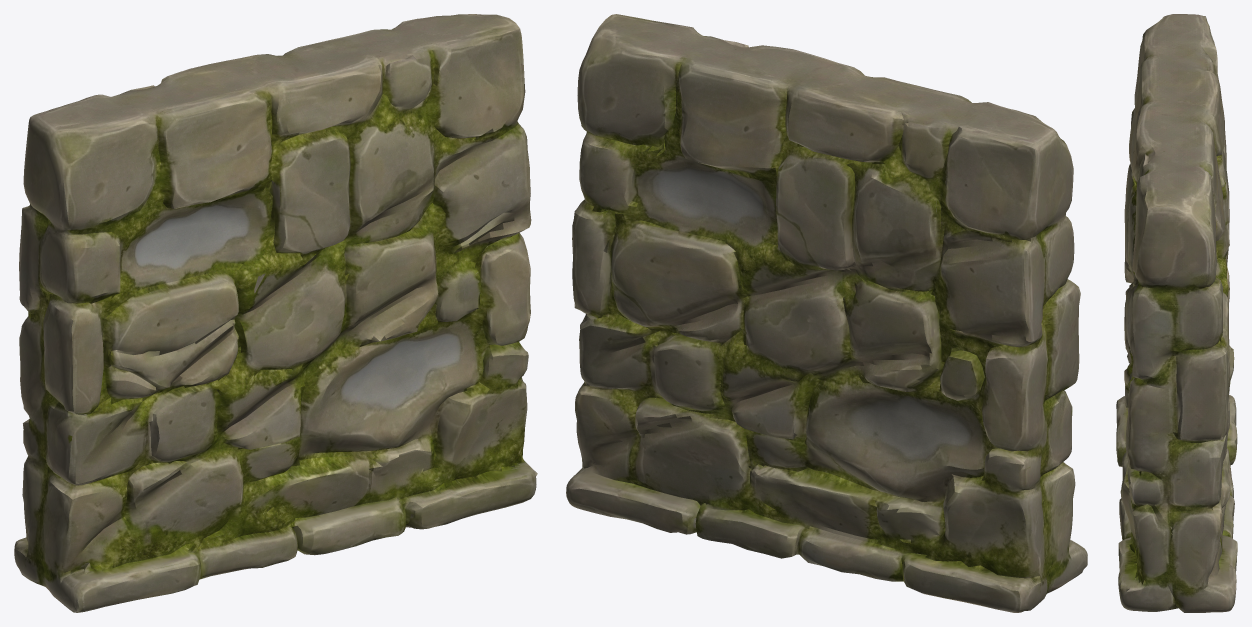
Rendered from meadows_lock_yard_paving.glb.
3 renders of one model, left to right at view 1: azimuth 30°, elevation 25°; view 2: azimuth 150°, elevation 25°; view 3: azimuth 270°, elevation 25°, orthographic. The views are drawn at different scales.
Visible parts, largest first — view 1: Mesh_0; view 2: Mesh_0; view 3: Mesh_0.
Boxes of the visible parts, box(x1,y1,x2,y2) form: Mesh_0: box(14, 14, 537, 612); Mesh_0: box(566, 14, 1087, 612); Mesh_0: box(1116, 14, 1237, 612).
Size of the model in its own units: 1.9 by 1.82 by 0.4902.
Materials: 1 (1 with a texture image).
